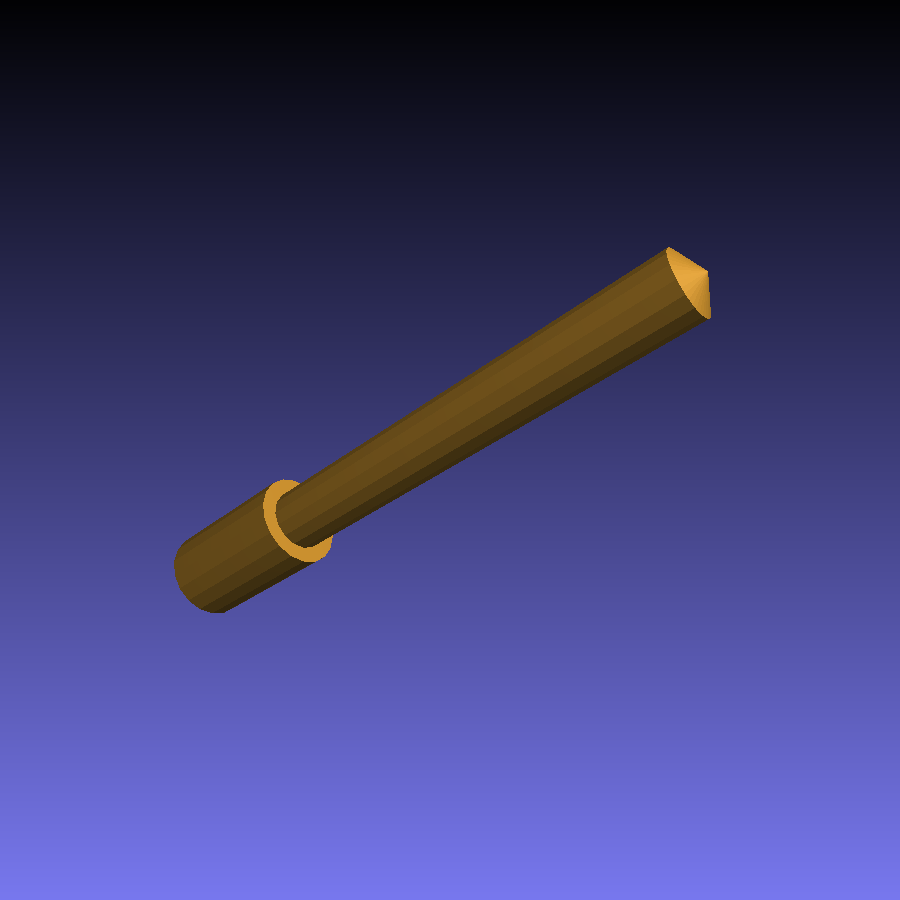cargo_g: (173, 246, 711, 613)
